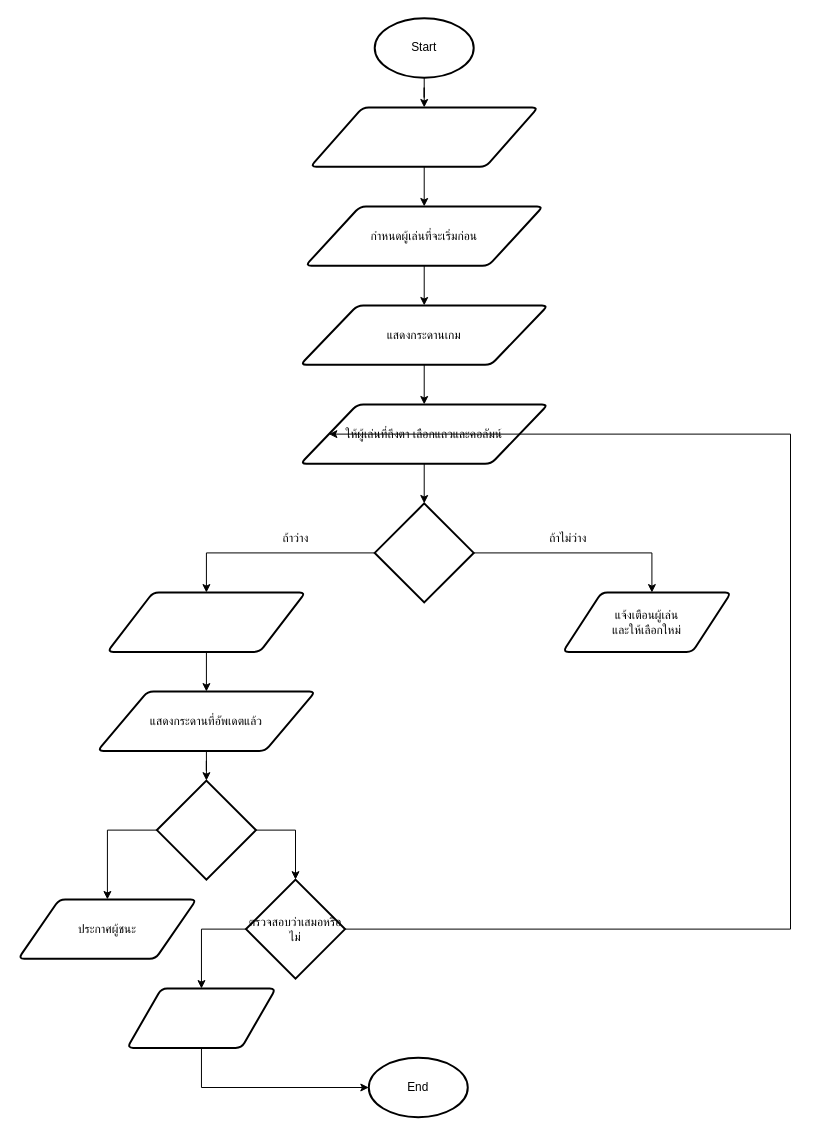
Image size: 816x1135. Some labels were removed from this diagram. Each missing label, with the centre of its shape:
การกำหนดสัญลักษณ์ผู้เล่น: (x=424, y=136)
ตรวจสอบ ผู้ชนะ: (x=205, y=829)
ตรวจสอบว่าช่องที่ เลือกว่าง หรือไม่?: (x=423, y=552)
ประกาศผลเสมอ: (x=201, y=1017)
อัพเดตกระดานด้วย สัญลักษณ์ของผู้เล่น: (x=206, y=621)
